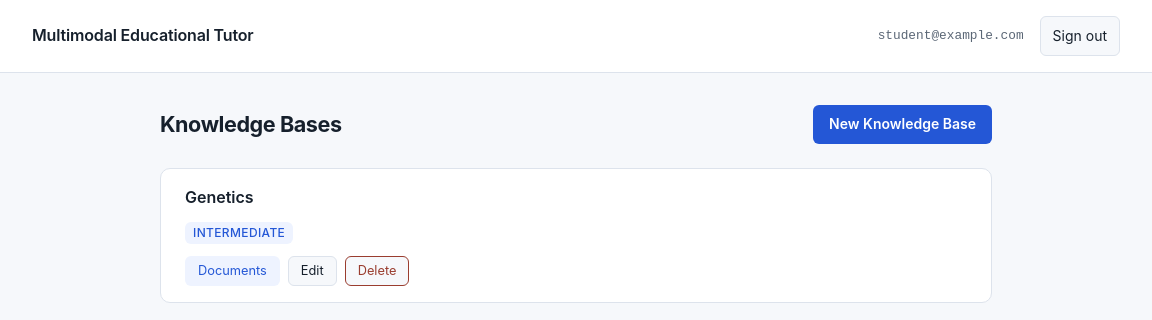
Test case: Knowledge Base list › shows a confirm button when delete is clicked
Expected: the text "Genetics" is shown, [185,185,254,210]
Click the button "Delete" at (377, 271), box [345,256,410,286]
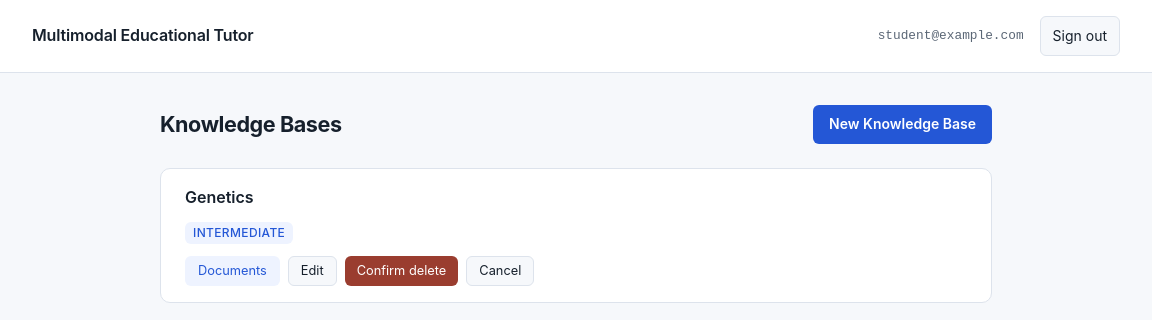
Expected: the button "Confirm delete" is shown, [345,256,458,286]
